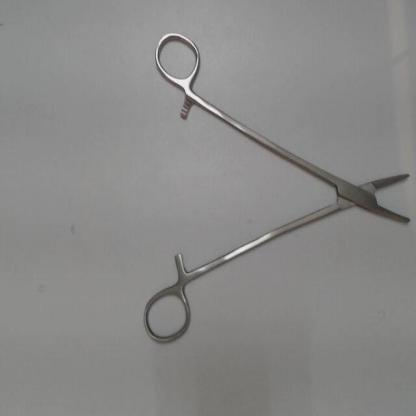8 Mayo Needle Holder: (136, 22, 415, 350)
